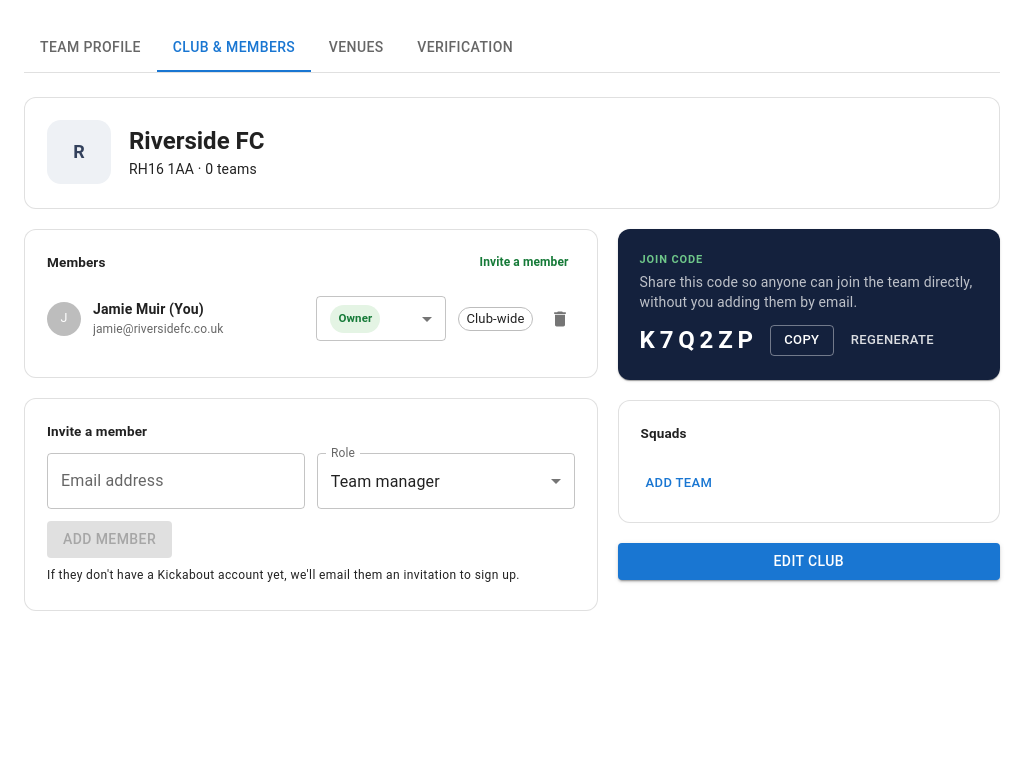
Scenario: ClubProfilePage members › confirms when an existing account was added straight away
In the field labelled "Email address": (176, 481) [47,453,305,509], type "sam@example.com"
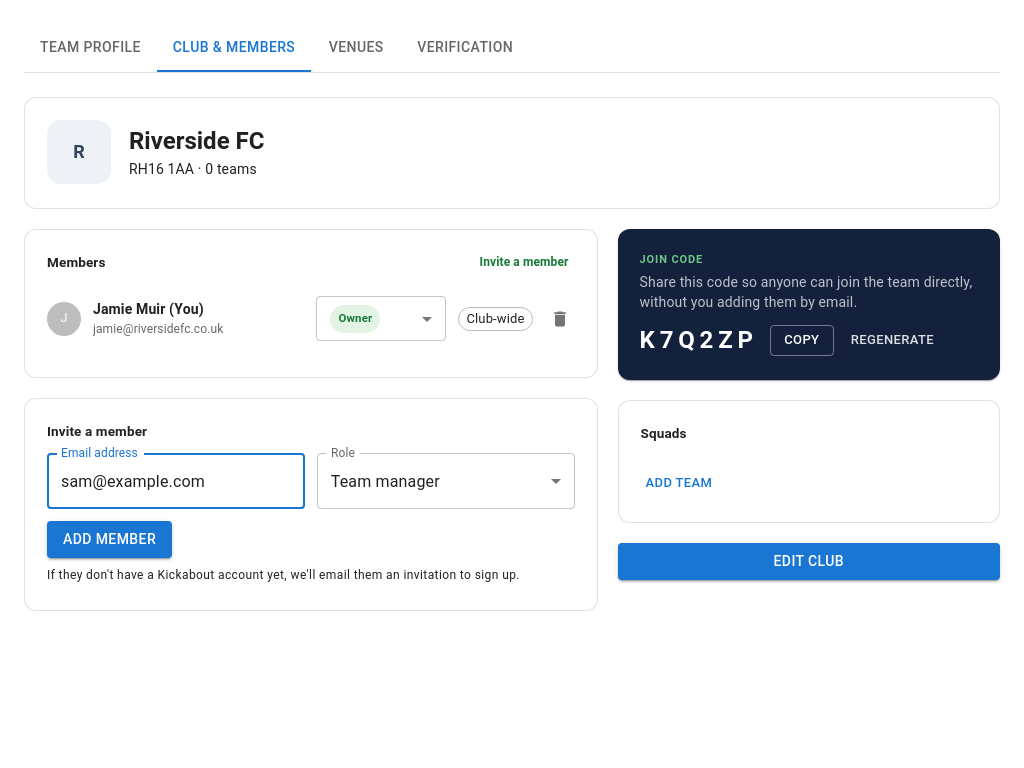
Click the button "Add member": (110, 540) [47,521,172,558]
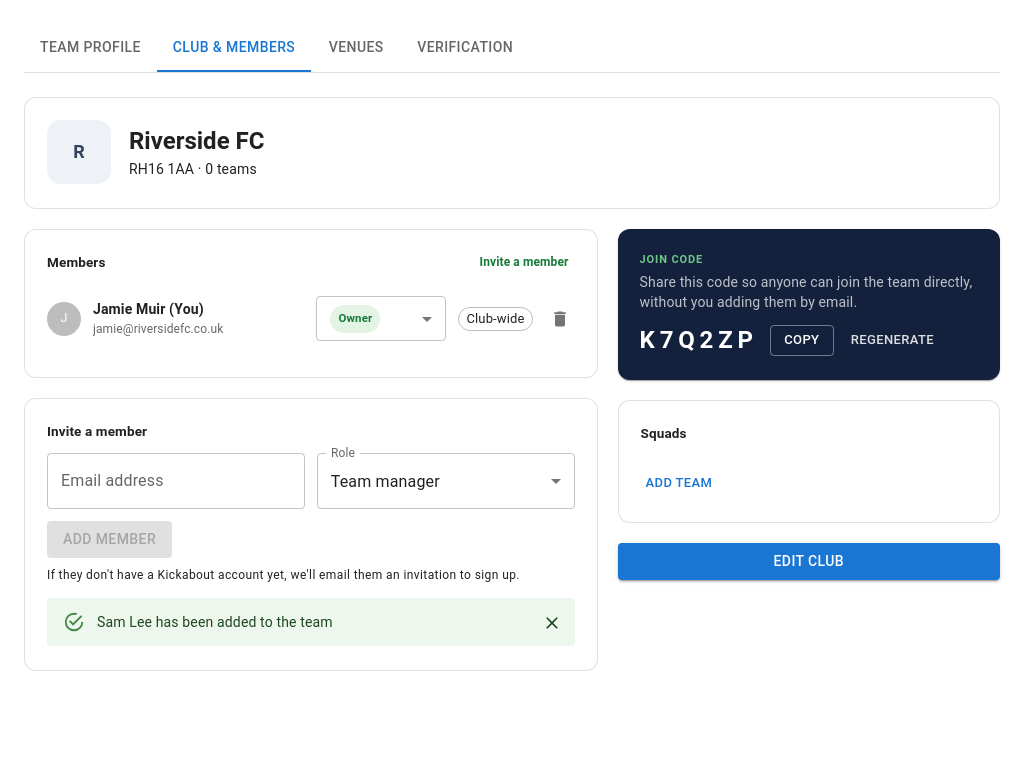
Now the text "Sam Lee has been added to the team" is shown, box [97,614,333,630]
